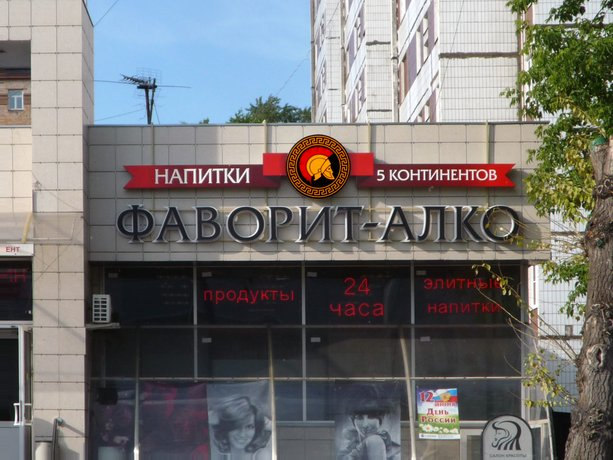signboard: (115, 133, 519, 200), (113, 202, 520, 250)
win_ad: (417, 273, 520, 320), (313, 272, 396, 320), (202, 273, 299, 313)
